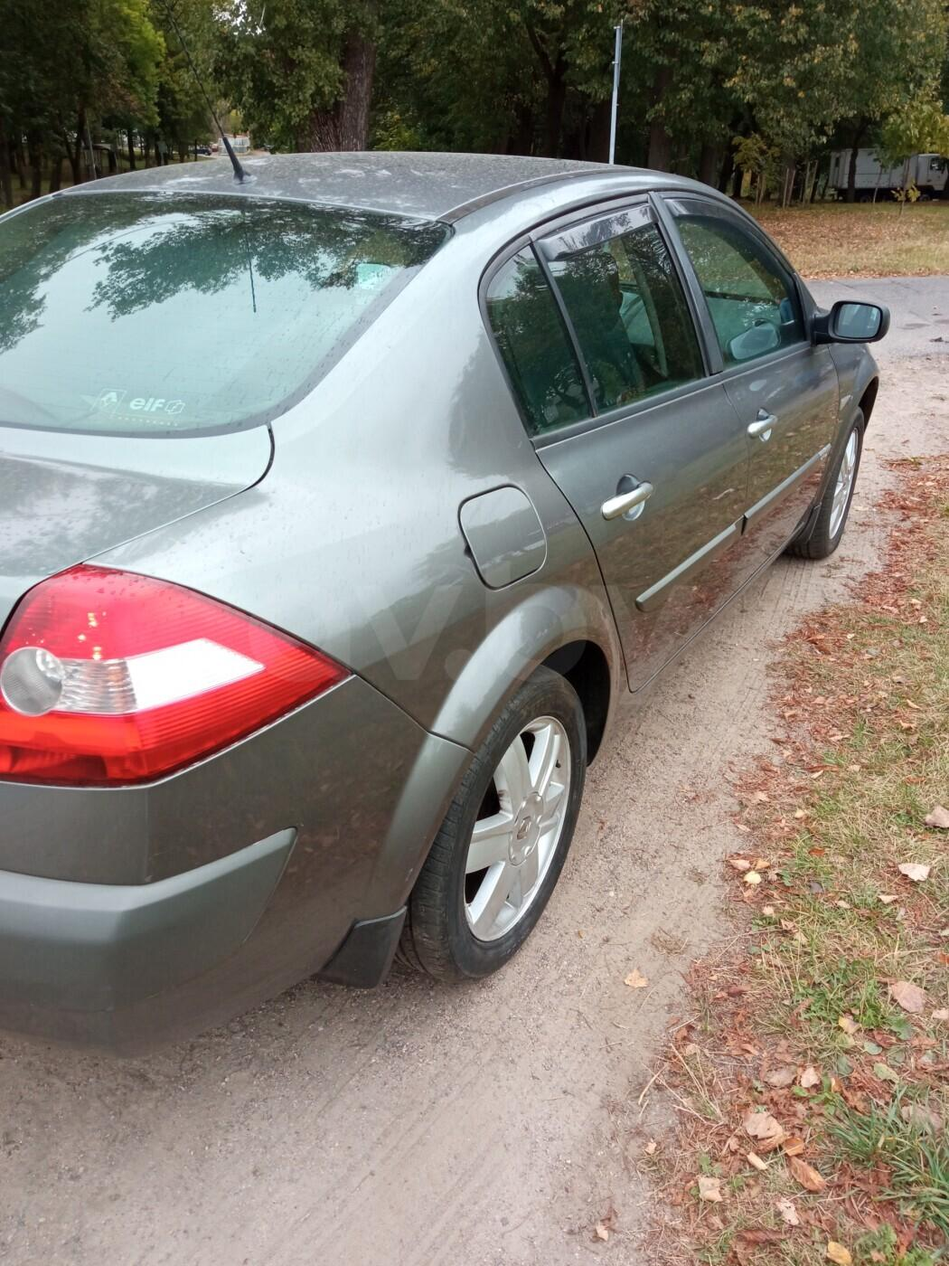Megane_2002-2006: (0, 136, 888, 1080)
